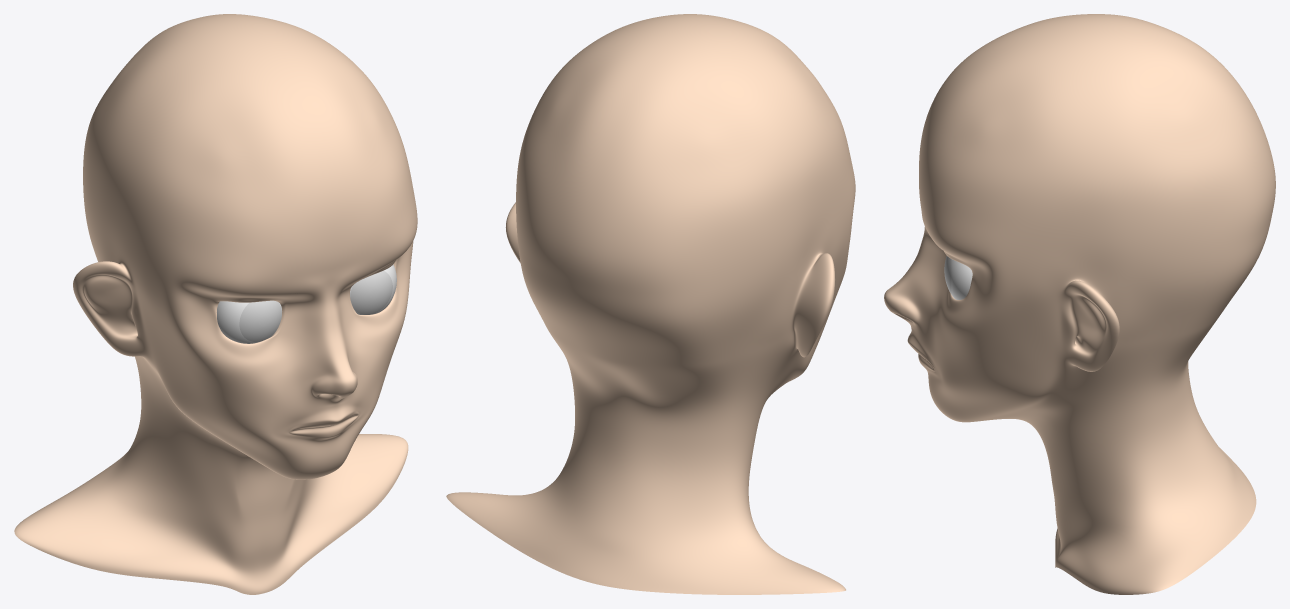
File: Cartoon Head5.fbx
3 views of the same model, side by side, from view 1: azimuth 30°, elevation 25°; view 2: azimuth 150°, elevation 25°; view 3: azimuth 270°, elevation 25° (orthographic). The views are drawn at different scales.
Visible parts, largest first — view 1: Suzanne, Eye Outer, Eye Inner; view 2: Suzanne; view 3: Suzanne, Eye Inner.
Boxes of the visible parts, box(x1,y1,x2,y2) form: Suzanne: box(14, 14, 417, 594); Eye Outer: box(239, 270, 392, 341); Eye Inner: box(217, 264, 396, 343); Suzanne: box(446, 14, 855, 594); Suzanne: box(884, 14, 1275, 594); Eye Inner: box(951, 259, 972, 299).
Size of the model in its own units: 3375 by 4511 by 2991.
